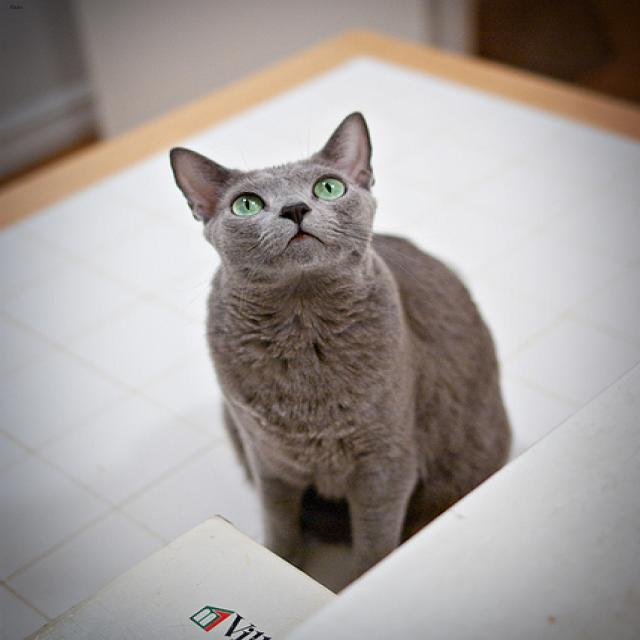Russian_Blue: (151, 102, 385, 286)
